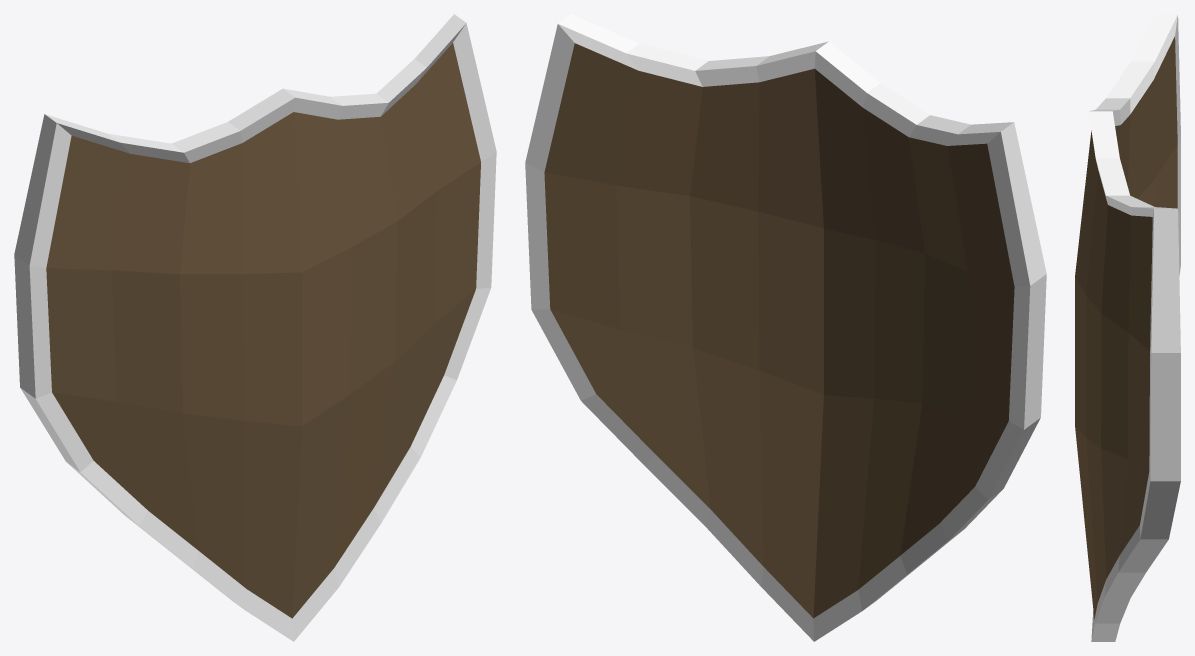
File: paladin.glb
3 renders of one model, left to right at view 1: azimuth 30°, elevation 25°; view 2: azimuth 150°, elevation 25°; view 3: azimuth 270°, elevation 25°, orthographic. The views are drawn at different scales.
Parts seen in each view (by area): view 1: Cube.001; view 2: Cube.001; view 3: Cube.001.
Boxes of the visible parts, bbox=[...] form: Cube.001: bbox=[14, 14, 496, 641]; Cube.001: bbox=[525, 14, 1046, 641]; Cube.001: bbox=[1075, 14, 1180, 641].
Size of the model in its own units: 2.45 by 2.73 by 0.4944.
